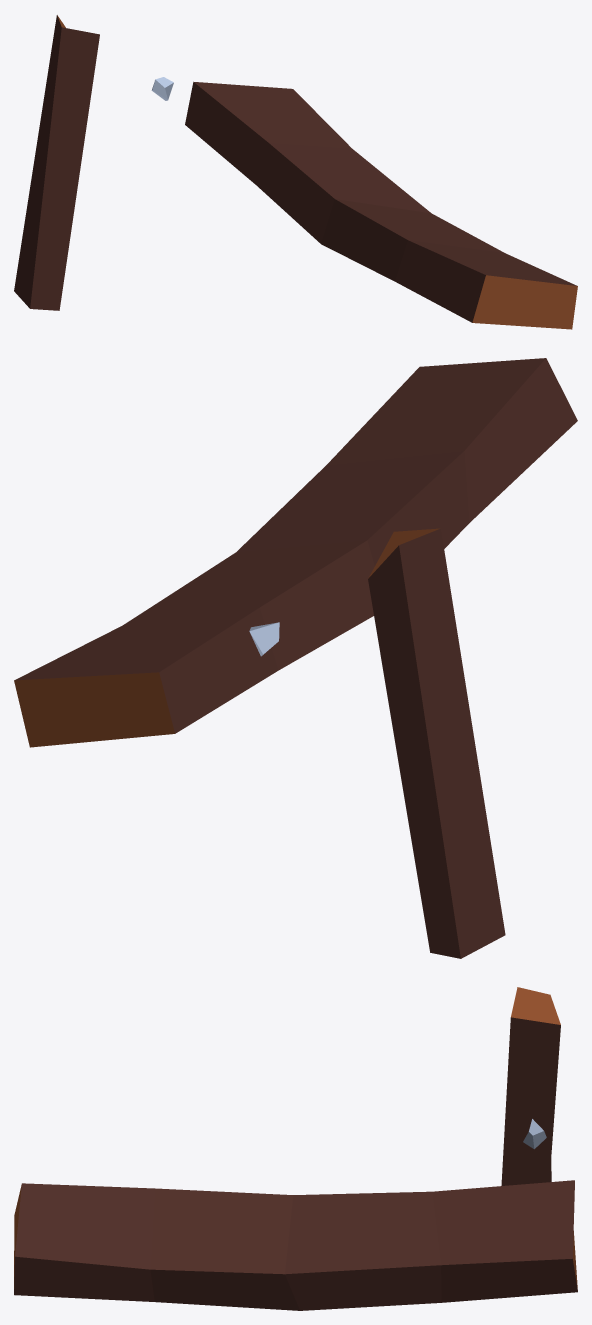
File: Ramp_Particle.fbx
3 renders of one model, top to bottom at view 1: azimuth 30°, elevation 25°; view 2: azimuth 150°, elevation 25°; view 3: azimuth 270°, elevation 25°, orthographic. The views are drawn at different scales.
Visible parts, largest first — view 1: Ramp_Particle3, Ramp_Particle2; view 2: Ramp_Particle3, Ramp_Particle2; view 3: Ramp_Particle3, Ramp_Particle2.
Boxes of the visible parts, <box> form: Ramp_Particle3: <box>185,81,577,329</box>; Ramp_Particle2: <box>14,15,99,310</box>; Ramp_Particle3: <box>14,358,577,747</box>; Ramp_Particle2: <box>368,528,505,958</box>; Ramp_Particle3: <box>14,1180,577,1310</box>; Ramp_Particle2: <box>501,987,560,1185</box>.
Size of the model in its own units: 201 by 125 by 108.
